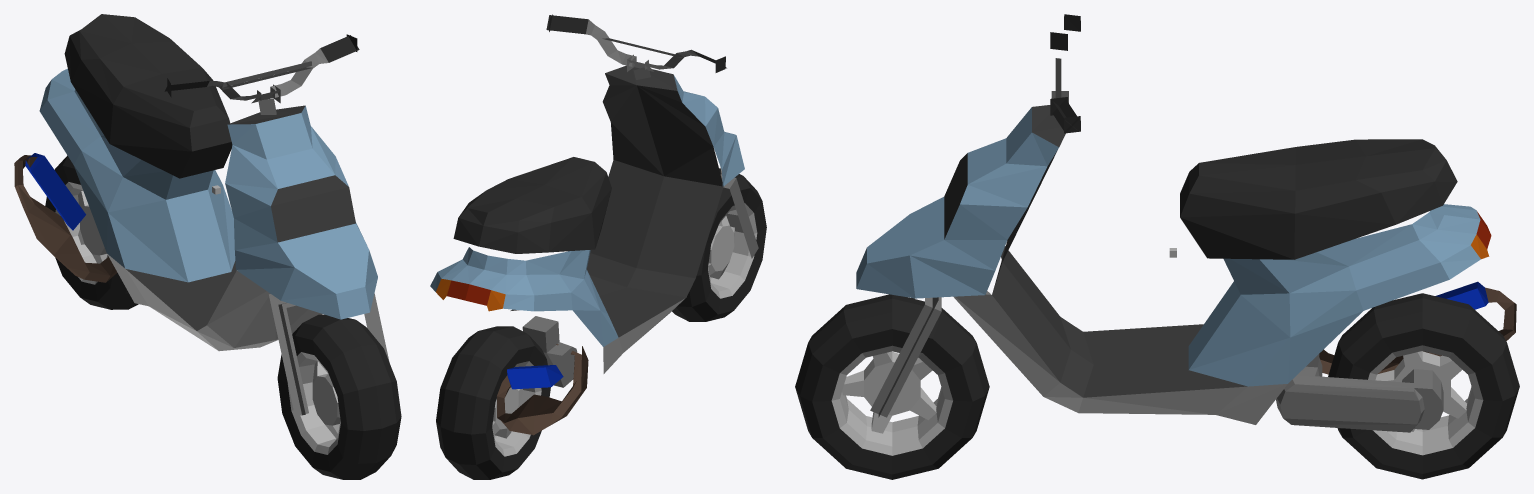
The model's file is moto-6.glb.
3 views of the same model, side by side, from view 1: azimuth 30°, elevation 25°; view 2: azimuth 150°, elevation 25°; view 3: azimuth 270°, elevation 25° (orthographic). The views are drawn at different scales.
Visible parts, largest first — view 1: spirit-n; view 2: spirit-n; view 3: spirit-n.
Boxes of the visible parts, x1,y1,x2,y2 form: spirit-n: (14, 14, 401, 479); spirit-n: (430, 14, 766, 479); spirit-n: (795, 14, 1519, 479).
Size of the model in its own units: 0.5938 by 1.06 by 1.7.
